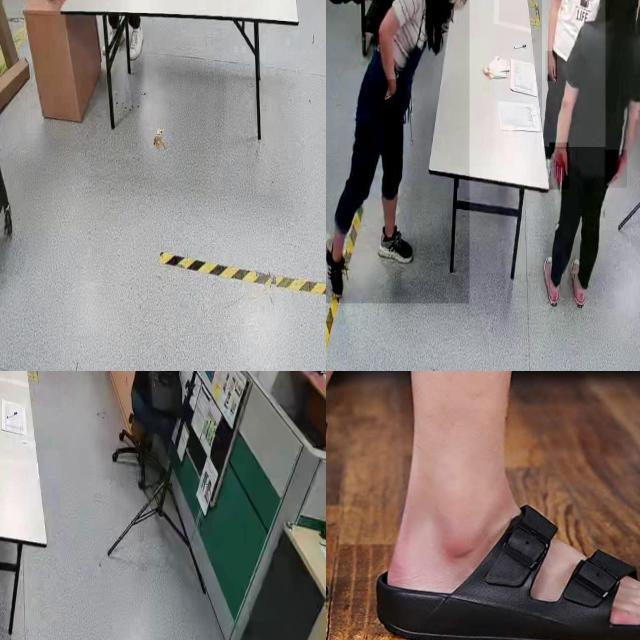Sandals: (373, 494, 640, 640)
hand_noglove: (549, 142, 569, 190), (604, 150, 628, 188), (382, 79, 398, 109), (546, 51, 558, 82)
person: (326, 0, 469, 304), (547, 0, 640, 319), (542, 0, 605, 147)
shoes: (375, 218, 419, 270), (326, 230, 352, 304), (539, 253, 566, 313), (568, 253, 588, 316), (127, 18, 145, 62)
